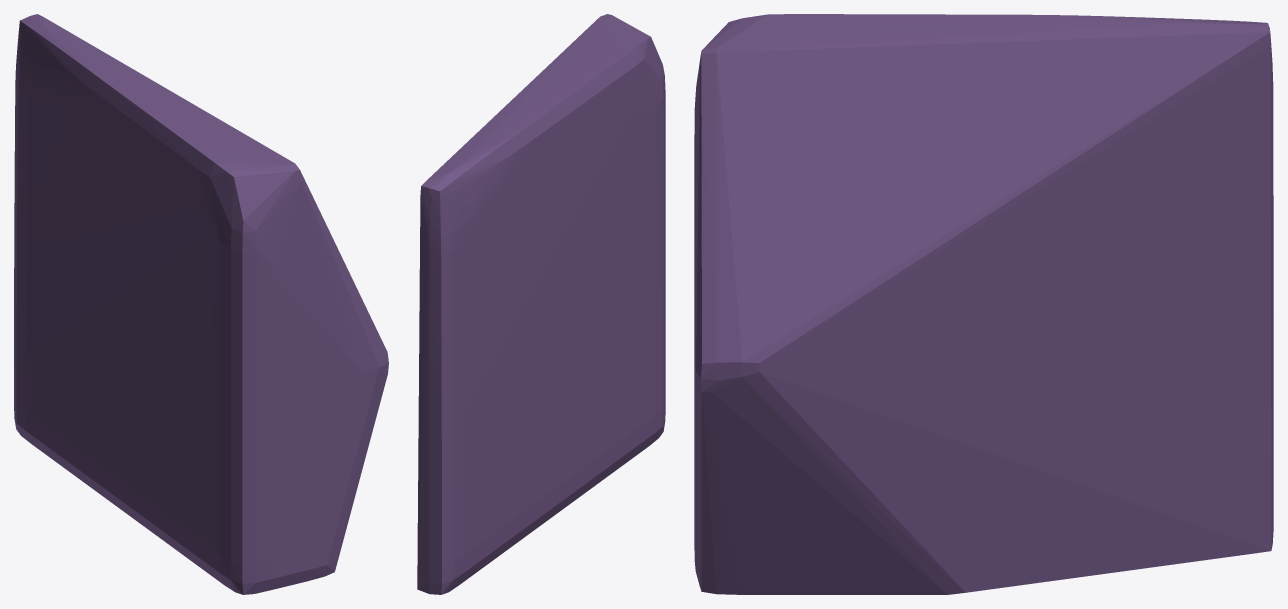
3 renders of one model, left to right at view 1: azimuth 30°, elevation 25°; view 2: azimuth 150°, elevation 25°; view 3: azimuth 270°, elevation 25°, orthographic. The views are drawn at different scales.
Bounding box in the file's own units: 0.0179 × 0.0467 × 0.0463.
